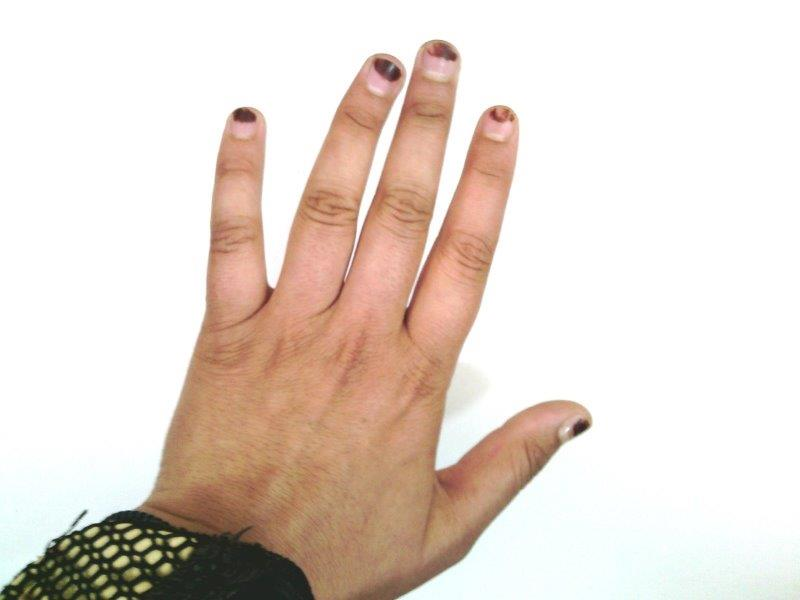hand: (155, 40, 592, 552)
